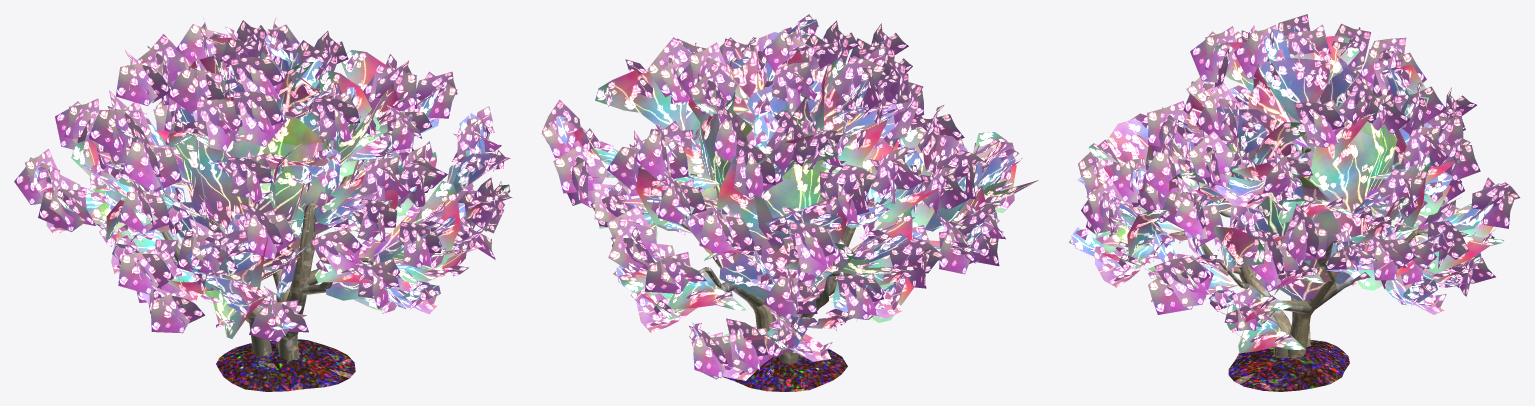
Rendered from magnolia_01_SM.fbx.
The picture shows the model from 3 angles, left to right: view 1: azimuth 30°, elevation 25°; view 2: azimuth 150°, elevation 25°; view 3: azimuth 270°, elevation 25°; orthographic projection. The views are drawn at different scales.
Visible parts, largest first — view 1: magnolia_01_SM_LOD0; view 2: magnolia_01_SM_LOD0; view 3: magnolia_01_SM_LOD0.
Boxes of the visible parts, x1,y1,x2,y2 form: magnolia_01_SM_LOD0: (14,17,512,391); magnolia_01_SM_LOD0: (541,14,1038,391); magnolia_01_SM_LOD0: (1068,14,1520,391).
Size of the model in its own units: 801 by 819 by 678.
Materials: 3 (3 with a texture image).
